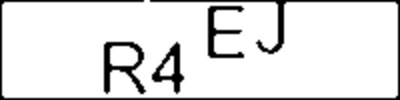4: (150, 39, 186, 98)
E: (204, 1, 249, 64)
J: (257, 1, 288, 58)
R: (100, 40, 150, 96)
